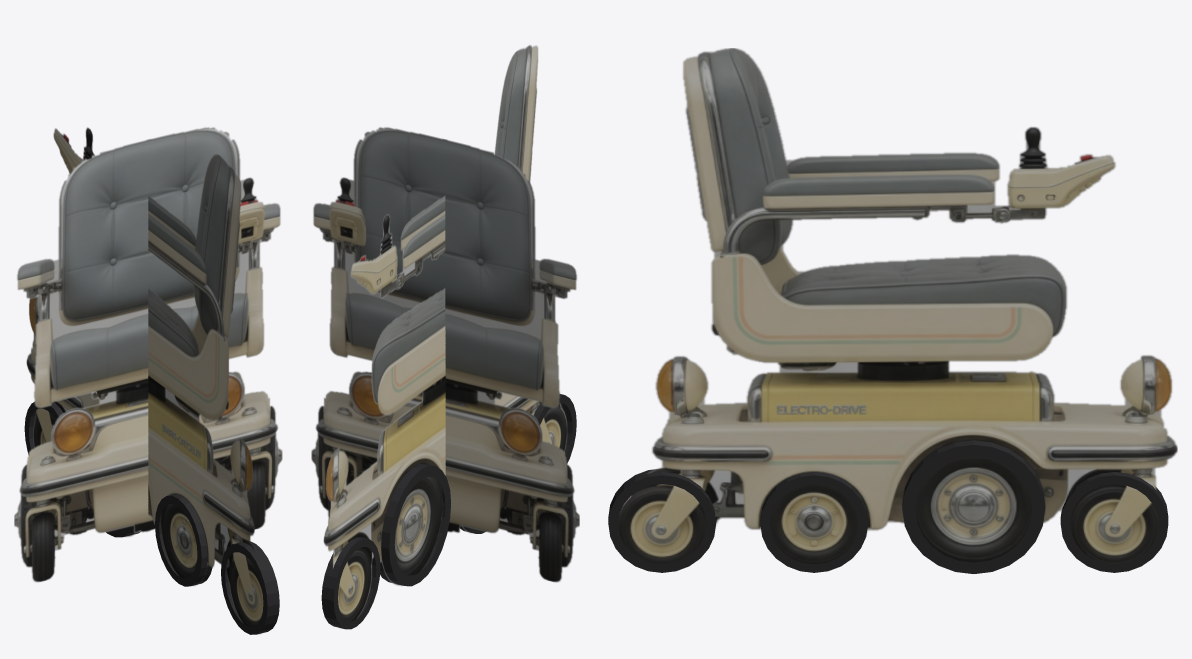
File: power_wheelchair.glb
3 views of the same model, side by side, from view 1: azimuth 30°, elevation 25°; view 2: azimuth 150°, elevation 25°; view 3: azimuth 270°, elevation 25° (orthographic). The views are drawn at different scales.
Parts seen in each view (by area): view 1: power_wheelchair, wheel_BC, wheel_M2C, wheel_FC; view 2: power_wheelchair, wheel_M1C, wheel_FC, wheel_BC; view 3: power_wheelchair, wheel_M1C, wheel_BC, wheel_FC, wheel_M2C.
Part boxes in pixels (x1,y1,x2,y2): power_wheelchair: [14, 127, 282, 634]; wheel_BC: [221, 541, 279, 634]; wheel_M2C: [155, 494, 212, 586]; wheel_FC: [24, 402, 63, 455]; power_wheelchair: [311, 45, 579, 628]; wheel_M1C: [380, 464, 450, 586]; wheel_FC: [321, 537, 380, 629]; wheel_BC: [533, 394, 576, 463]; power_wheelchair: [618, 48, 1177, 563]; wheel_M1C: [902, 440, 1045, 573]; wheel_BC: [608, 469, 715, 572]; wheel_FC: [1060, 472, 1168, 572]; wheel_M2C: [760, 472, 867, 572].
Bounding box in the file's own units: 0.6985 × 1.13 × 1.11.
Materials: 2 (1 with a texture image).
